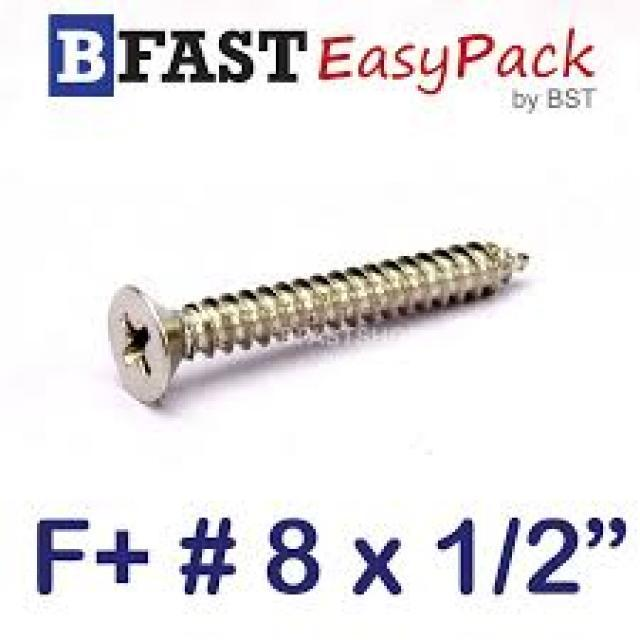Screw: (108, 242, 529, 407)
